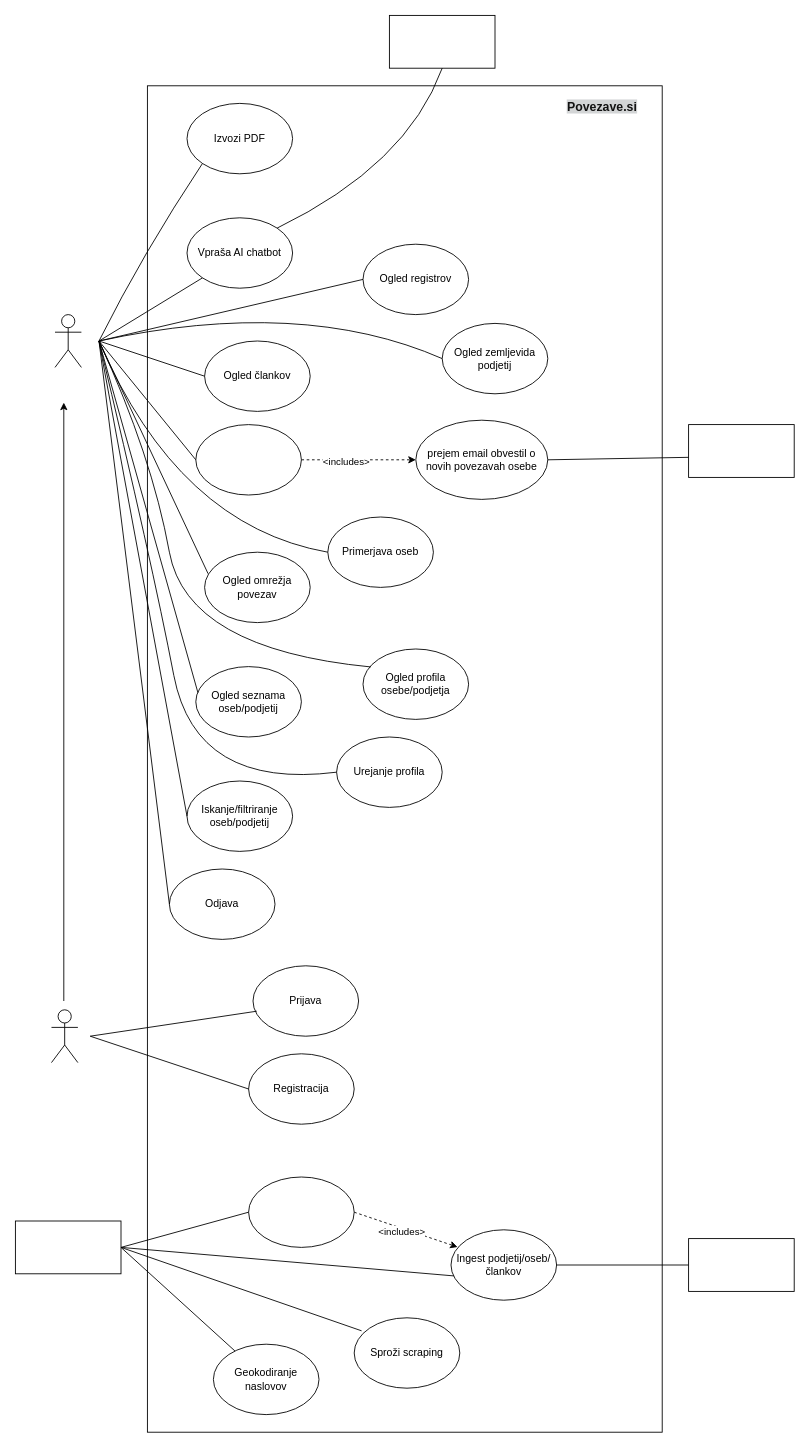
Image size: 810x1448. Some labels were removed from this diagram. Here are the shapes that lost their labels. From the top down, the box of each, then its label:
(389, 15, 495, 68): AI ponudnik (Groq, Gemini)
(54, 314, 81, 367): Registrirani uporabnik
(195, 424, 301, 495): Follow/unfollow oseb
(688, 424, 794, 477): Gmail SMTP
(51, 1009, 78, 1063): Uporabnik
(248, 1176, 354, 1247): Samodejno izpeljevanje povezav
(15, 1220, 121, 1274): Scheduler (Github Actions cron)
(688, 1238, 794, 1291): Zunanji podatkovni viri (AJPES, OPSI, media RSS, profesorji.net,...)
